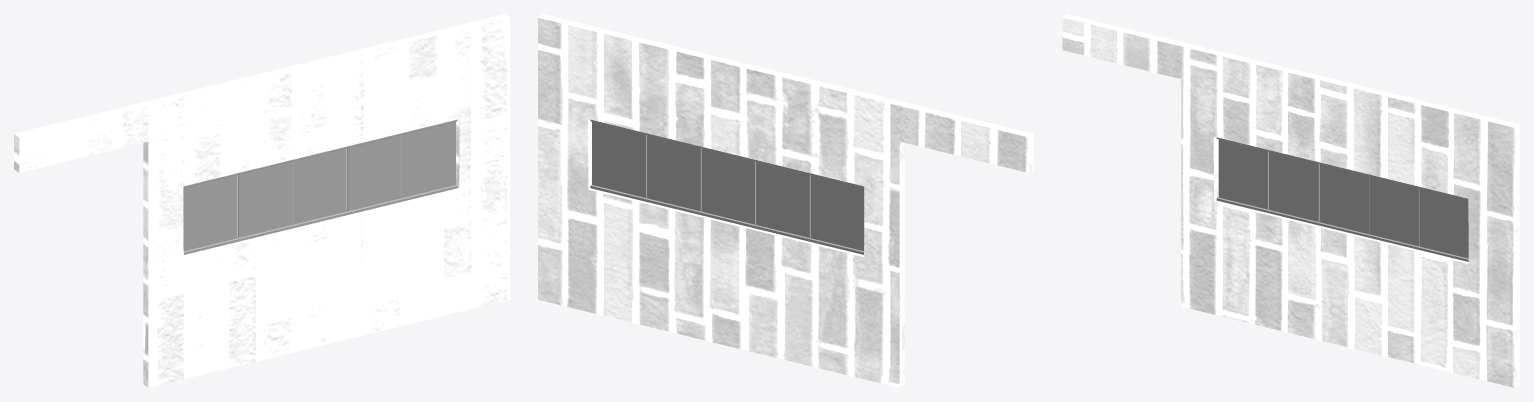
The model's file is SM_Securitywall.fbx.
The picture shows the model from 3 angles, left to right: view 1: azimuth 30°, elevation 25°; view 2: azimuth 150°, elevation 25°; view 3: azimuth 330°, elevation 25°; orthographic projection. The views are drawn at different scales.
Parts seen in each view (by area): view 1: SM_Securitywall; view 2: SM_Securitywall; view 3: SM_Securitywall.
Boxes of the visible parts, x1=… form: SM_Securitywall: x1=14, y1=14, x2=509, y2=387; SM_Securitywall: x1=538, y1=14, x2=1033, y2=387; SM_Securitywall: x1=1062, y1=14, x2=1519, y2=387.
Size of the model in its own units: 550 by 10 by 302.
Materials: 3 (1 with a texture image).
